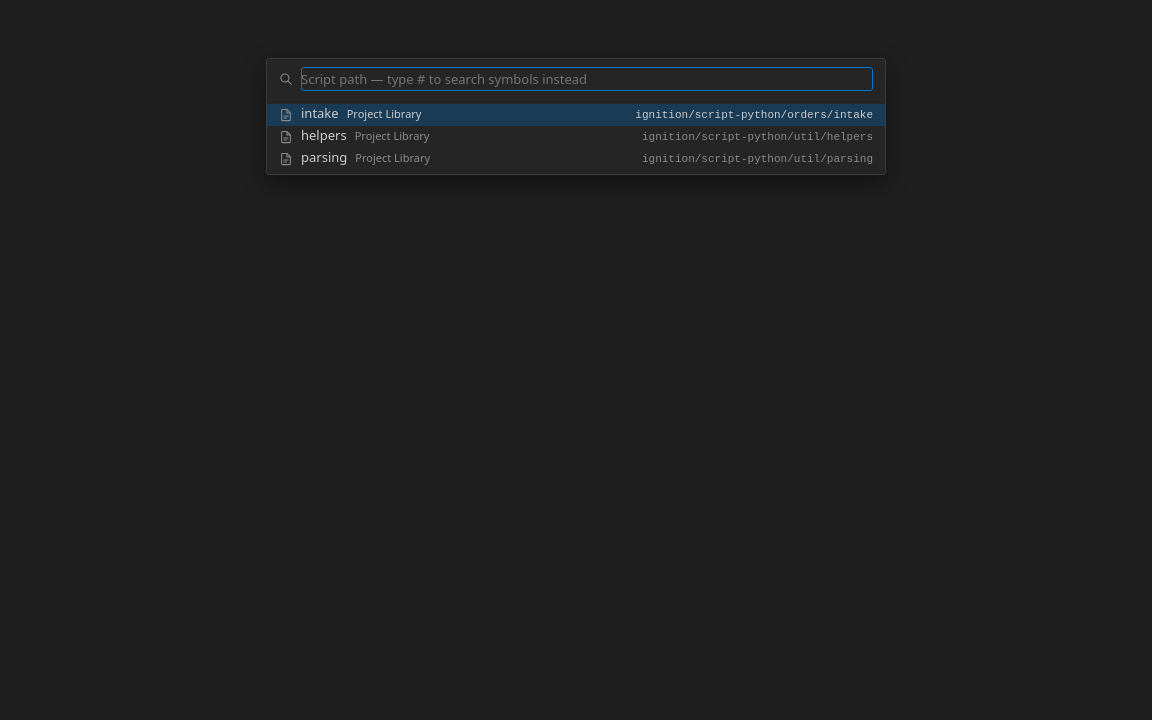
Test case: QuickOpen — scripts › says so rather than showing an empty list when nothing matches
Type "zzzz" into the field at (587, 79), box [301,67,873,91]
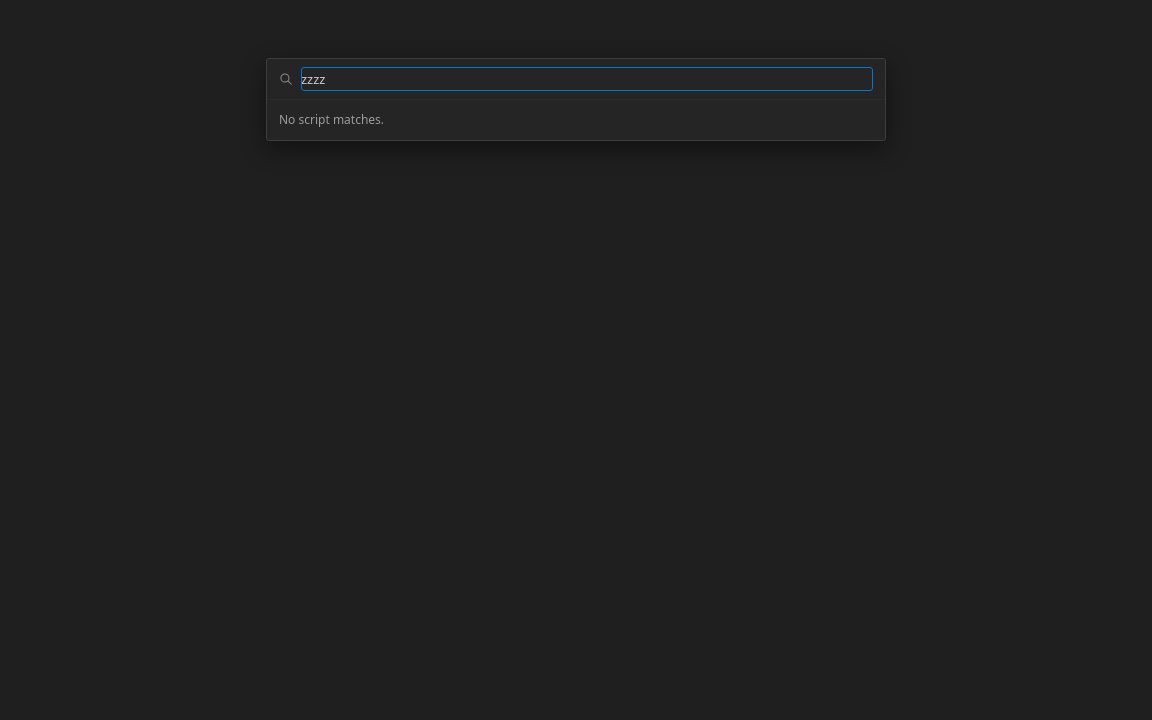
Check: the list item "No script matches." is shown, box [279,111,384,128]
Check: no options are shown
